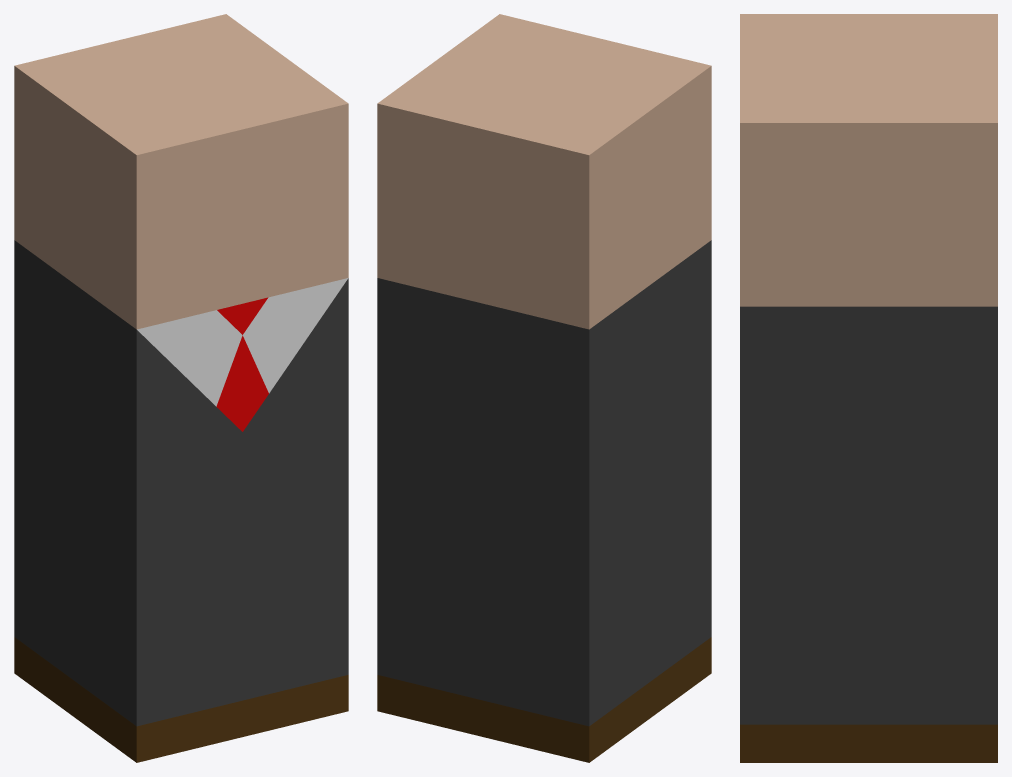
File: guard.fbx
3 views of the same model, side by side, from view 1: azimuth 30°, elevation 25°; view 2: azimuth 150°, elevation 25°; view 3: azimuth 270°, elevation 25° (orthographic). The views are drawn at different scales.
Parts seen in each view (by area): view 1: pCube1; view 2: pCube1; view 3: pCube1.
Boxes of the visible parts, bbox=[...] form: pCube1: bbox=[14, 14, 348, 762]; pCube1: bbox=[377, 14, 711, 762]; pCube1: bbox=[740, 14, 997, 762].
Bounding box in the file's own units: 1 × 2.74 × 1.
